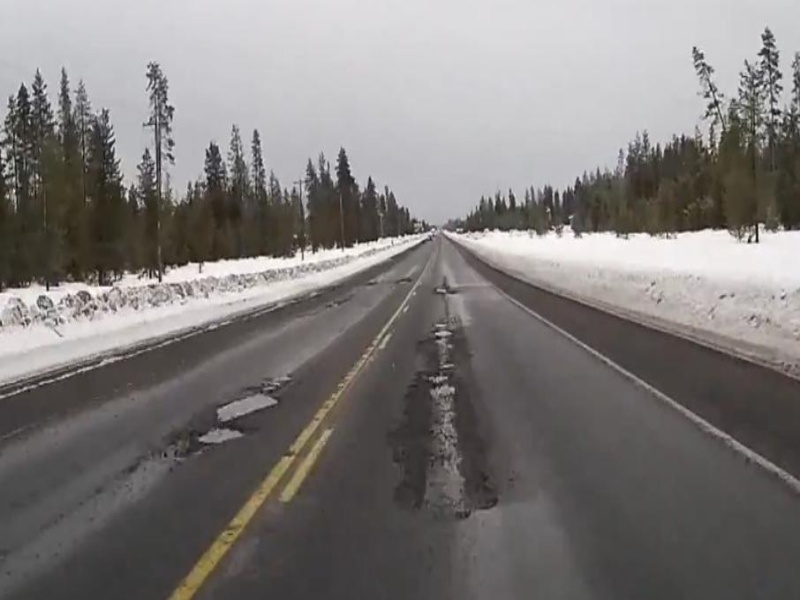pothole: (209, 387, 283, 423), (193, 427, 247, 446)
